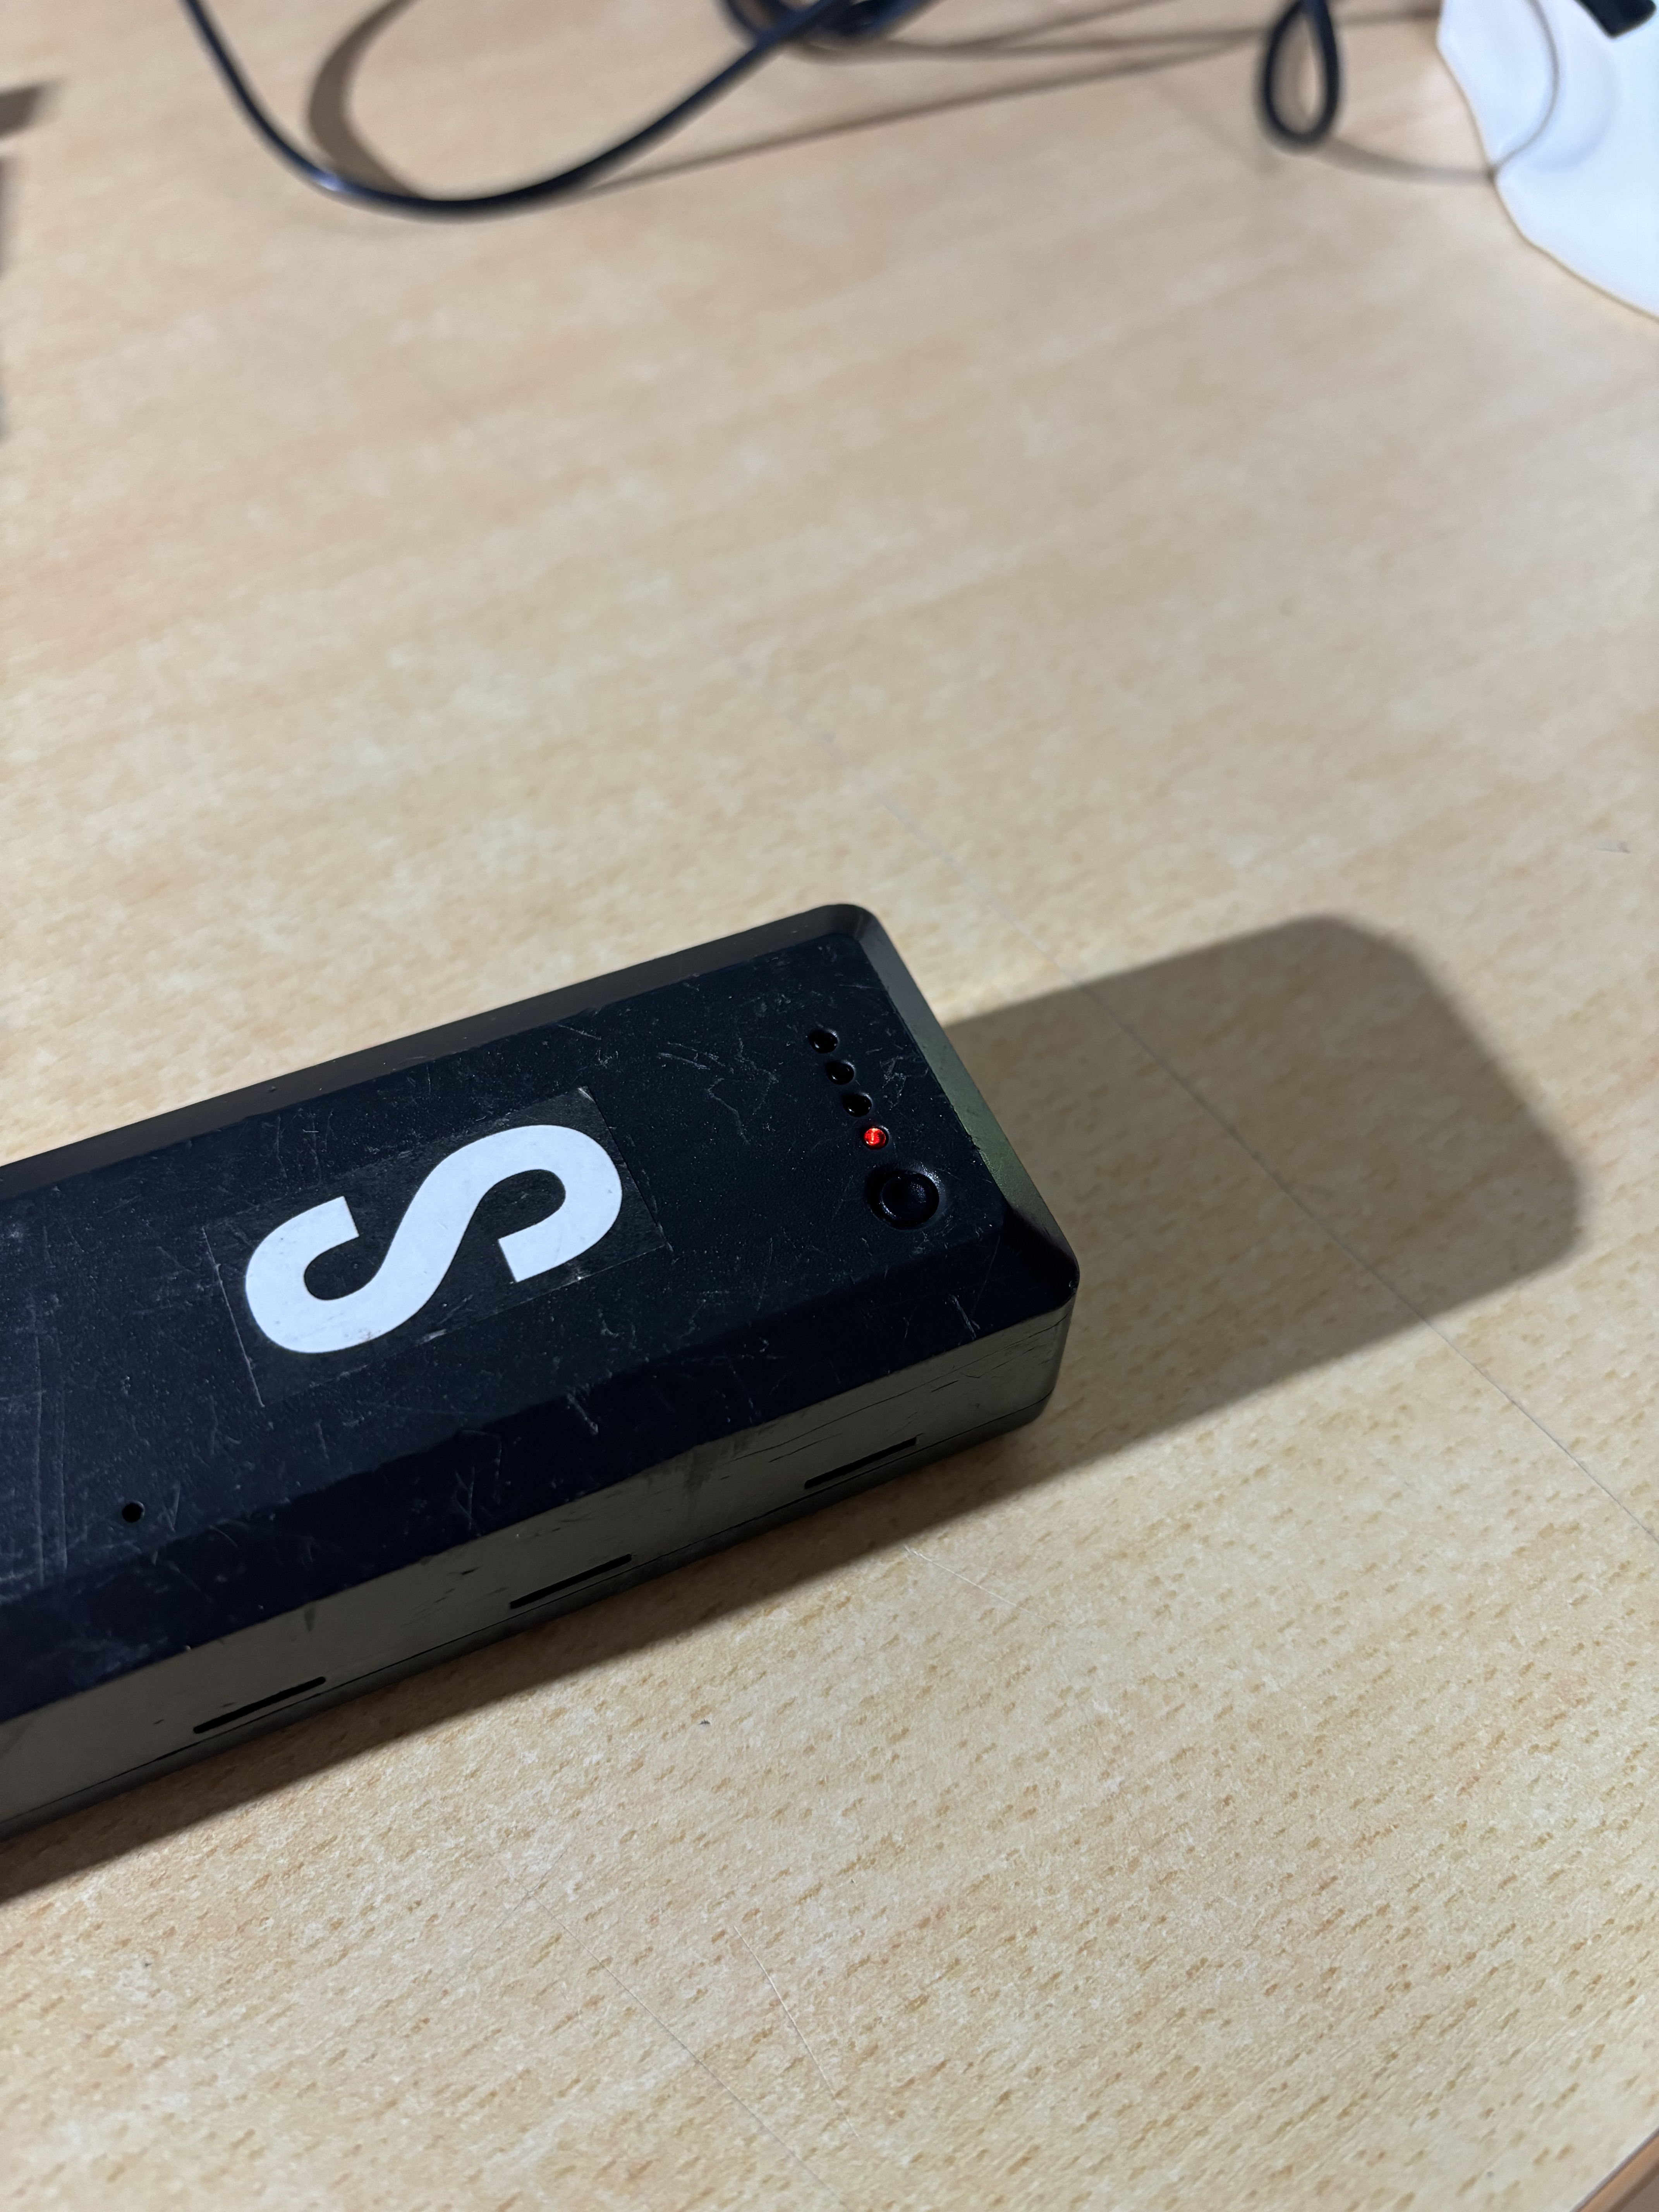Battery1: (795, 1000, 897, 1160)
